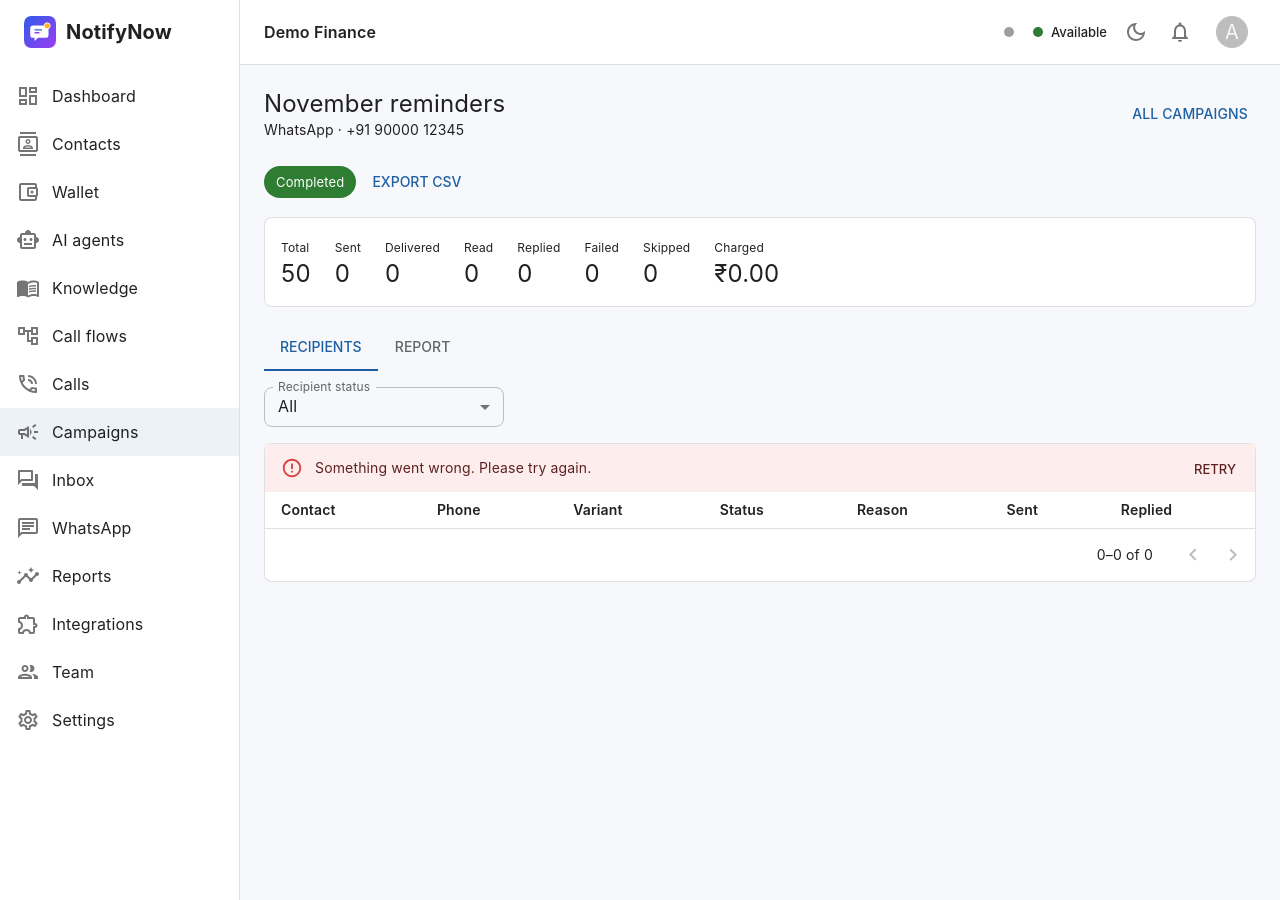
Test: offers retry after recipient and report requests fail
The width and height of the screenshot is (1280, 900).
Click the button "Retry": (1215, 469) [1183, 454, 1247, 484]
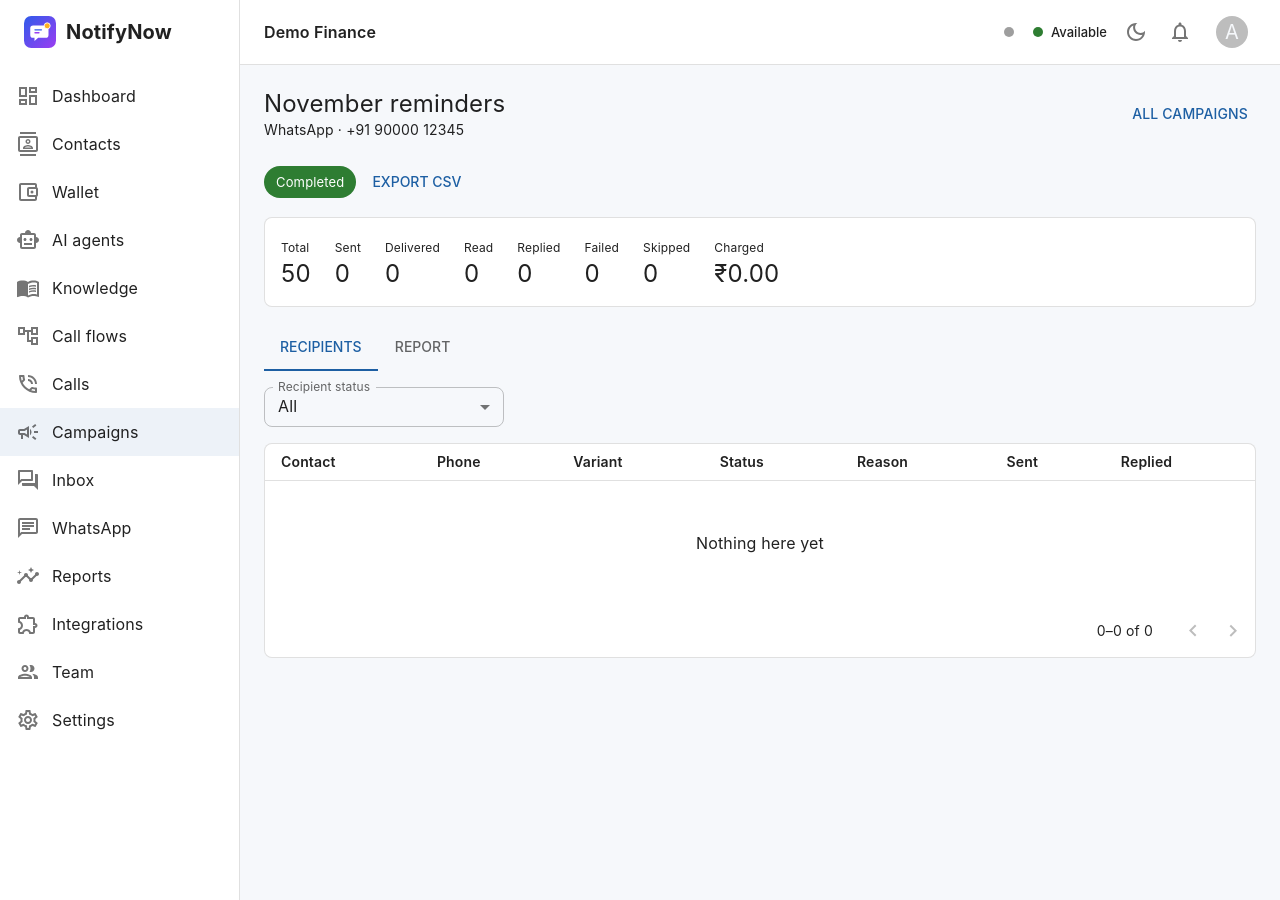
Click the tab "Report": (423, 346) [378, 322, 468, 370]
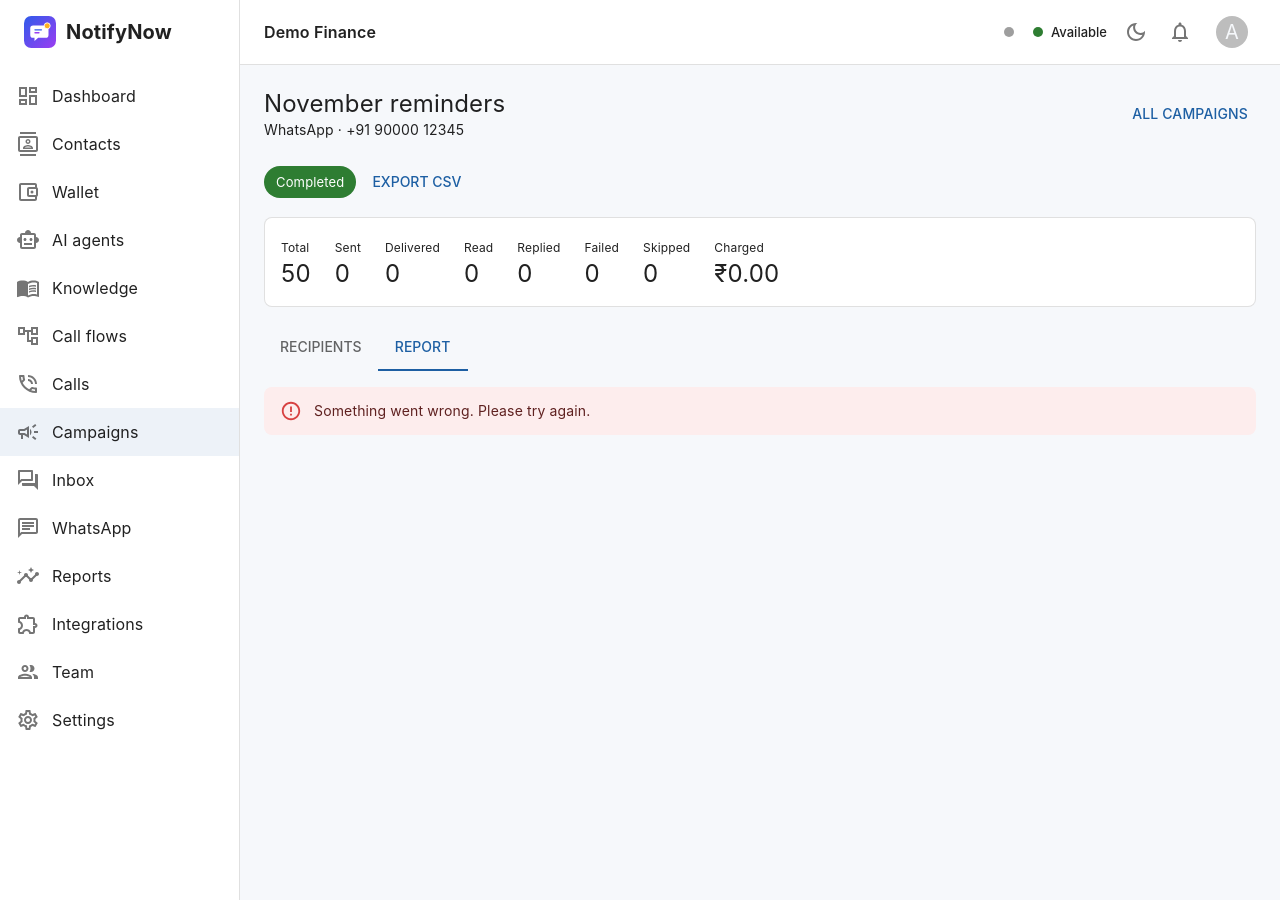
Check: the message "Something went wrong. Please try again." is shown, box [264, 386, 1256, 434]
